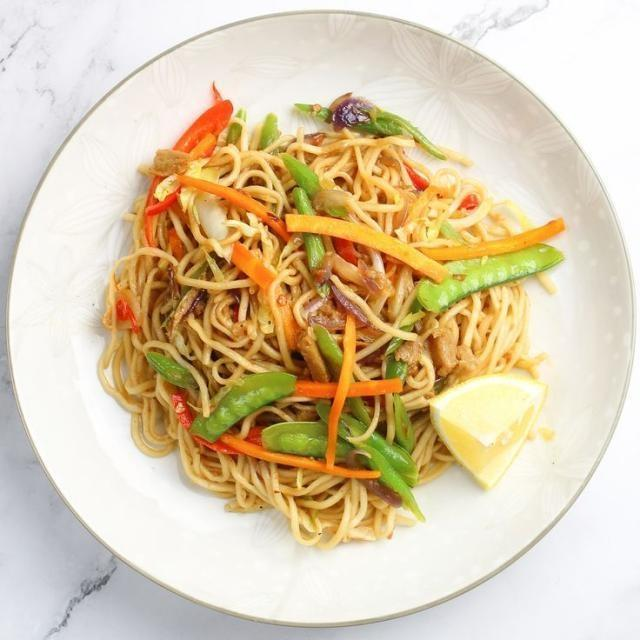pancit bihon: (117, 99, 541, 546)
